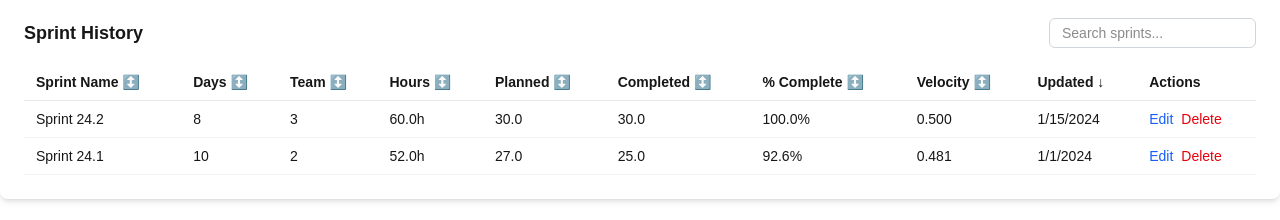
Test case: SprintHistory › should handle empty search gracefully
In the field with placeholder "Search sprints...": (1152, 33) [1049, 18, 1256, 48], type "test"
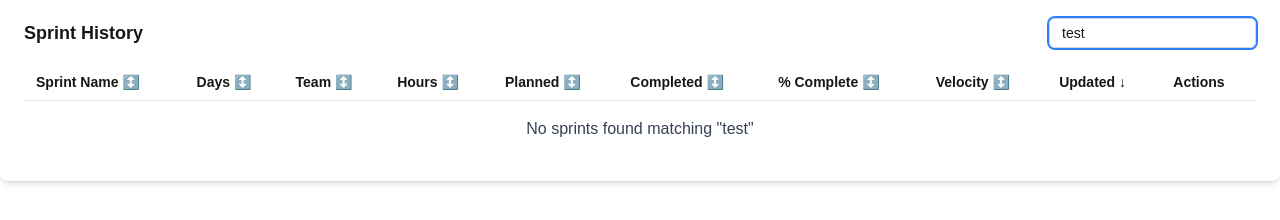
Clear the field with placeholder "Search sprints...": (1152, 33) [1049, 18, 1256, 48]
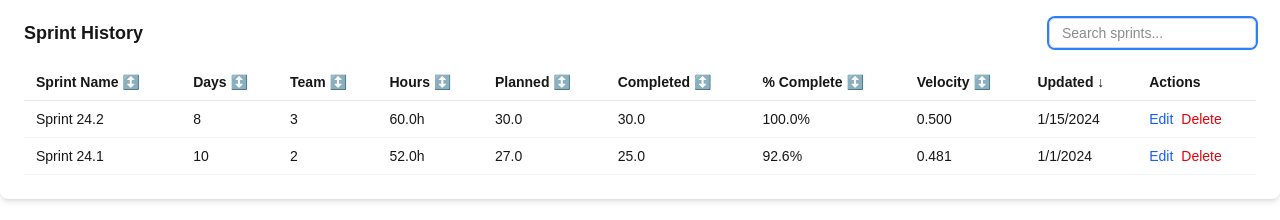
Expected: the text "Sprint 24.1" is shown, [24, 138, 181, 174]
Expected: the text "Sprint 24.2" is shown, [24, 100, 181, 138]
